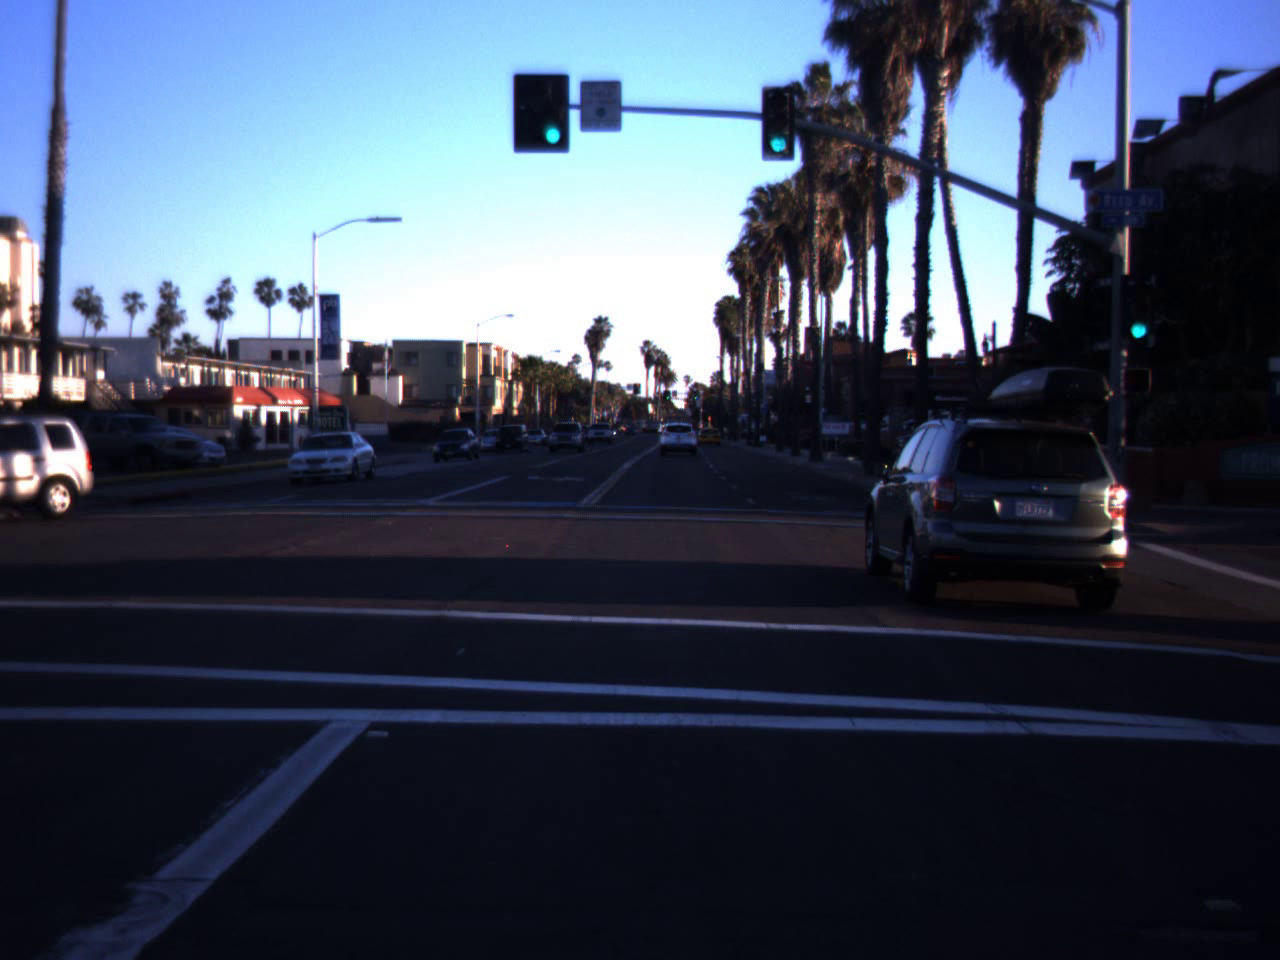go: (535, 83, 571, 148), (760, 101, 796, 156), (1121, 287, 1157, 342)
